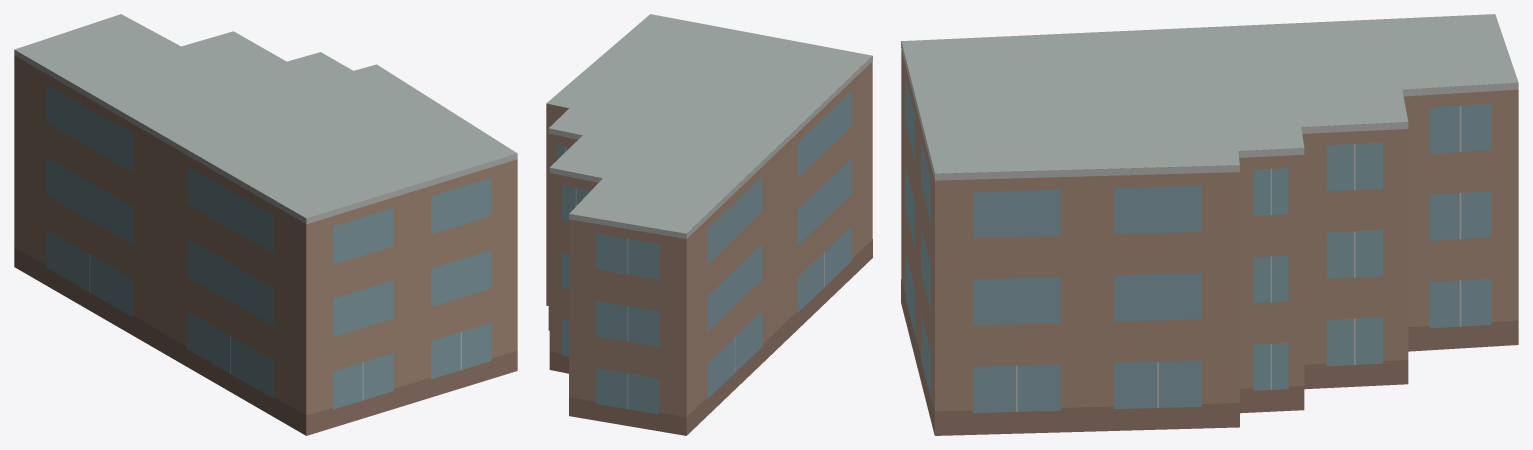
Rendered from survey-upis-32712634.glb.
3 renders of one model, left to right at view 1: azimuth 30°, elevation 25°; view 2: azimuth 150°, elevation 25°; view 3: azimuth 270°, elevation 25°, orthographic. The views are drawn at different scales.
Parts seen in each view (by area): view 1: survey-upis-32712634.tmp; view 2: survey-upis-32712634.tmp; view 3: survey-upis-32712634.tmp.
Boxes of the visible parts, <box> form: survey-upis-32712634.tmp: <box>14,14,517,435</box>; survey-upis-32712634.tmp: <box>546,14,872,435</box>; survey-upis-32712634.tmp: <box>901,14,1518,435</box>.
Bounding box in the file's own units: 11.95 × 9.15 × 19.53.
